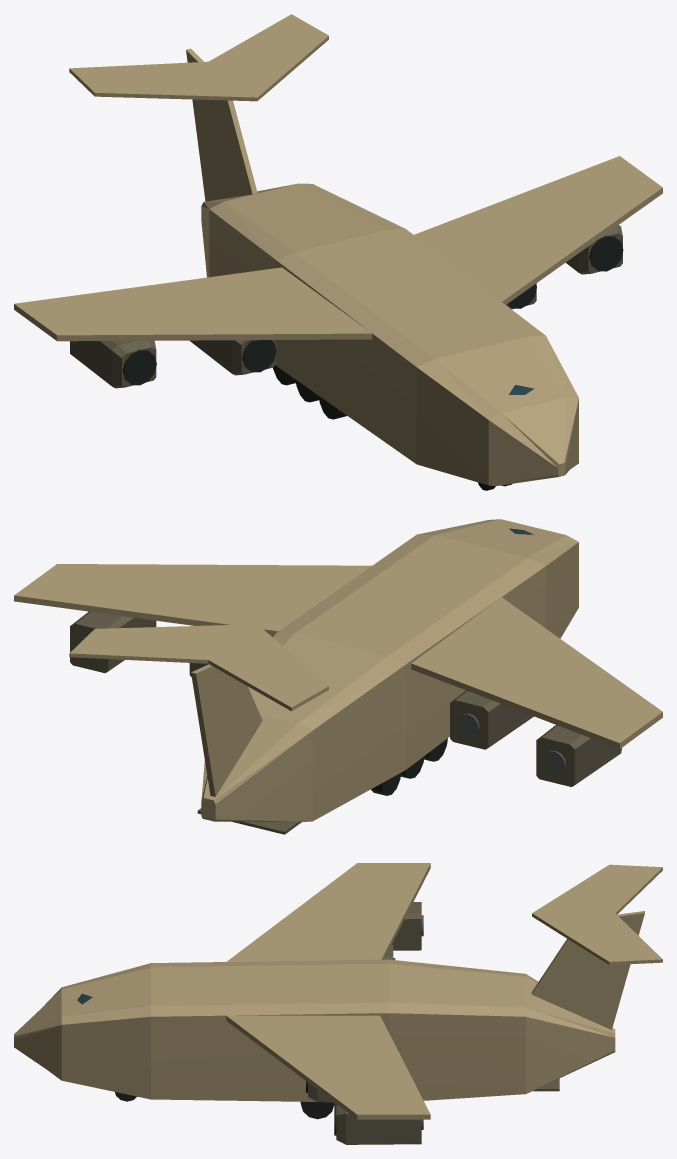
File: cargoPlane-lod.glb
3 renders of one model, top to bottom at view 1: azimuth 30°, elevation 25°; view 2: azimuth 150°, elevation 25°; view 3: azimuth 270°, elevation 25°, orthographic. The views are drawn at different scales.
Visible parts, largest first — view 1: armor, equipment (×4); view 2: armor, equipment (×5); view 3: armor, equipment (×3).
Boxes of the visible parts, x1,y1,x2,y2 form: armor: (14,14,662,486); equipment (×4): (70,225,623,490); armor: (14,519,662,821); equipment (×5): (70,528,621,834); armor: (14,863,662,1119); equipment (×3): (115,902,423,1144).
Bounding box in the file's own units: 30 × 10.2 × 32.7.
